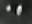person: (16, 5, 24, 17), (6, 5, 13, 13)
